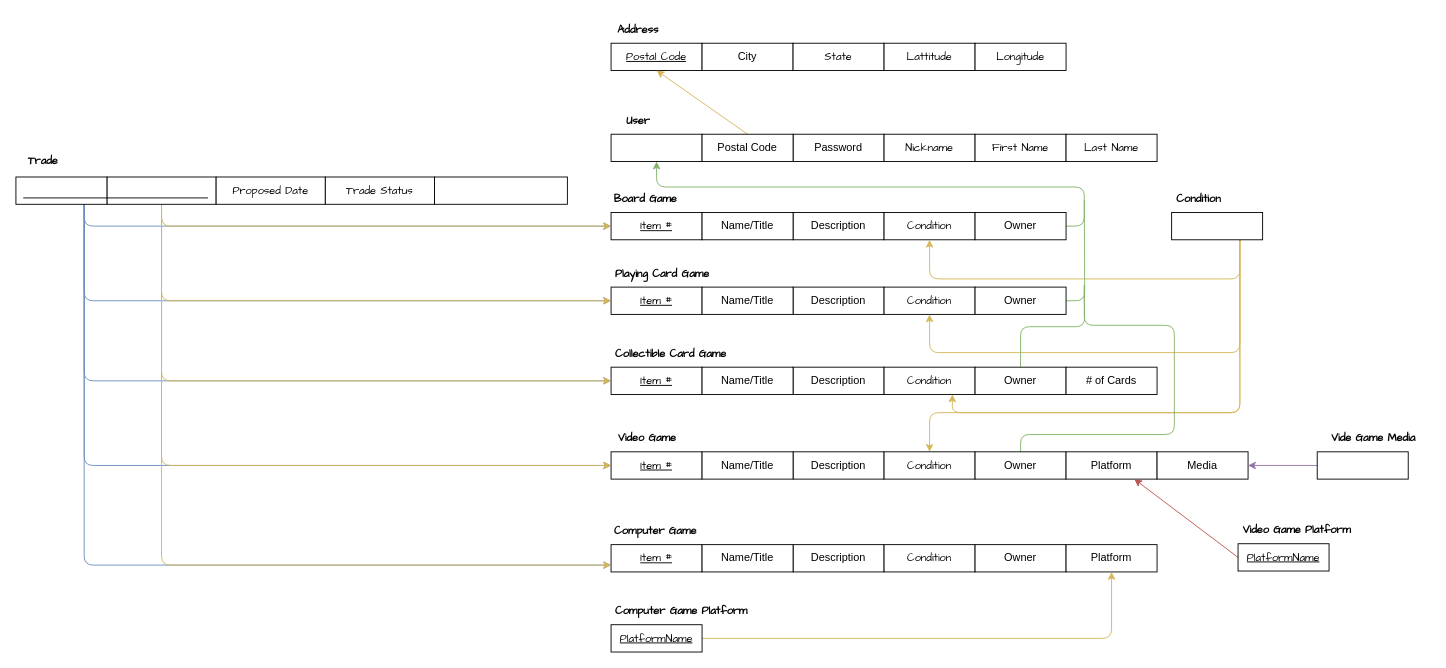
The diagram is 1446 pixels wide and 668 high, and some of its shapes have lost their labels. Here are the shapes that lost their labels. From the top down, the centre of each, then its label:
At point 656,147: "Email".
At point 61,190: "ProposerItem#".
At point 161,190: "CounterPartyItem#".
At point 500,190: "Accepted/Rejected Date".
At point 1217,226: "ConditionName".
At point 1362,465: "MediaName".
